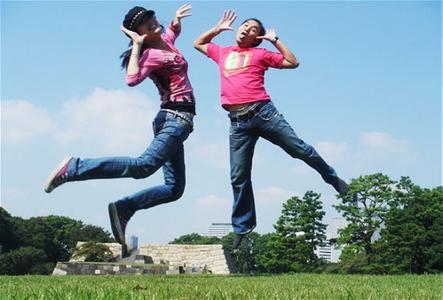person: (46, 4, 198, 245)
